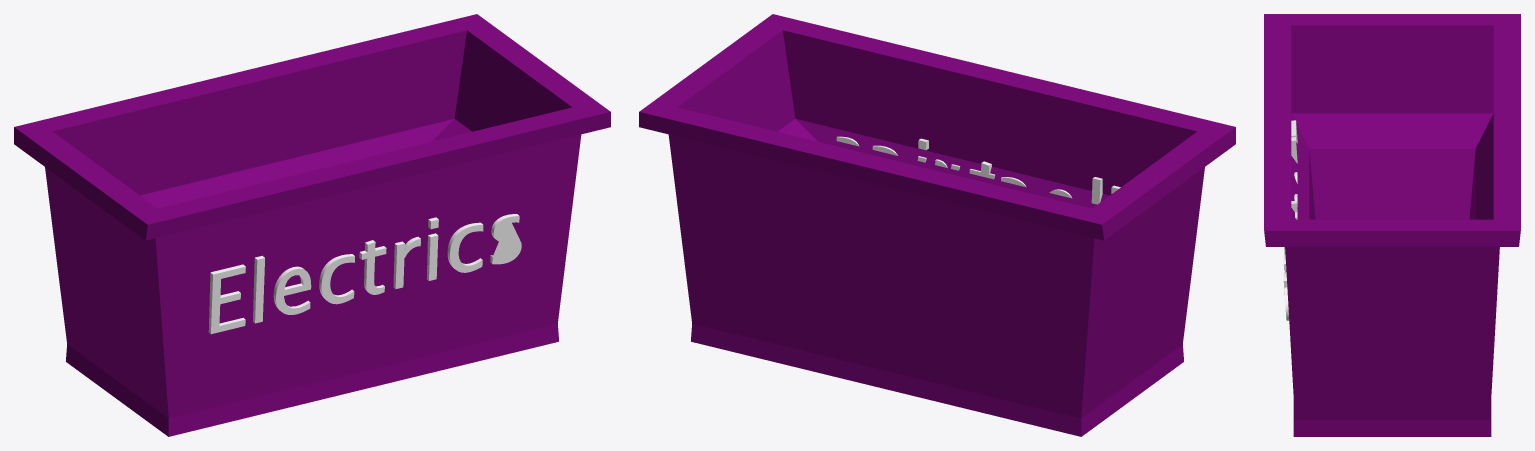
Rendered from Tip Container Electrics.fbx.
3 views of the same model, side by side, from view 1: azimuth 30°, elevation 25°; view 2: azimuth 150°, elevation 25°; view 3: azimuth 270°, elevation 25° (orthographic). The views are drawn at different scales.
Parts seen in each view (by area): view 1: pCube2, typeMesh1; view 2: pCube2, typeMesh1; view 3: pCube2, typeMesh1.
Part boxes in pixels (<box>): pCube2: <box>14,14,610,436</box>; typeMesh1: <box>208,214,521,334</box>; pCube2: <box>639,14,1235,436</box>; typeMesh1: <box>836,136,1120,204</box>; pCube2: <box>1264,14,1520,436</box>; typeMesh1: <box>1283,120,1297,320</box>.
Size of the model in its own units: 10.48 by 5 by 5.22.
